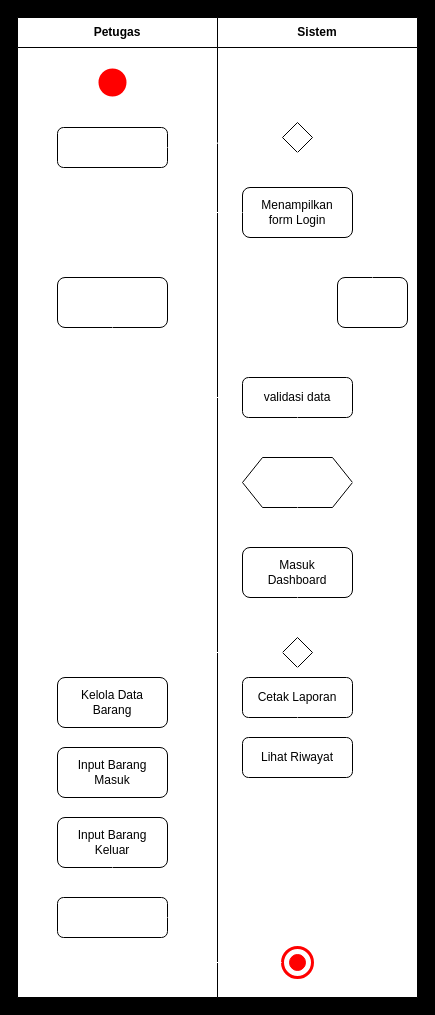
The diagram is 435 pixels wide and 1015 high, and some of its shapes have lost their labels. The shapes that lost their labels are listed below. From the top down, each one's centre as x and y in pixels, then its label:
the point at 112,147: Membuka web
the point at 112,302: Input username & password
the point at 372,302: Tampilkan Pesan Error
the point at 297,482: Data Valid?
the point at 112,917: Logout
